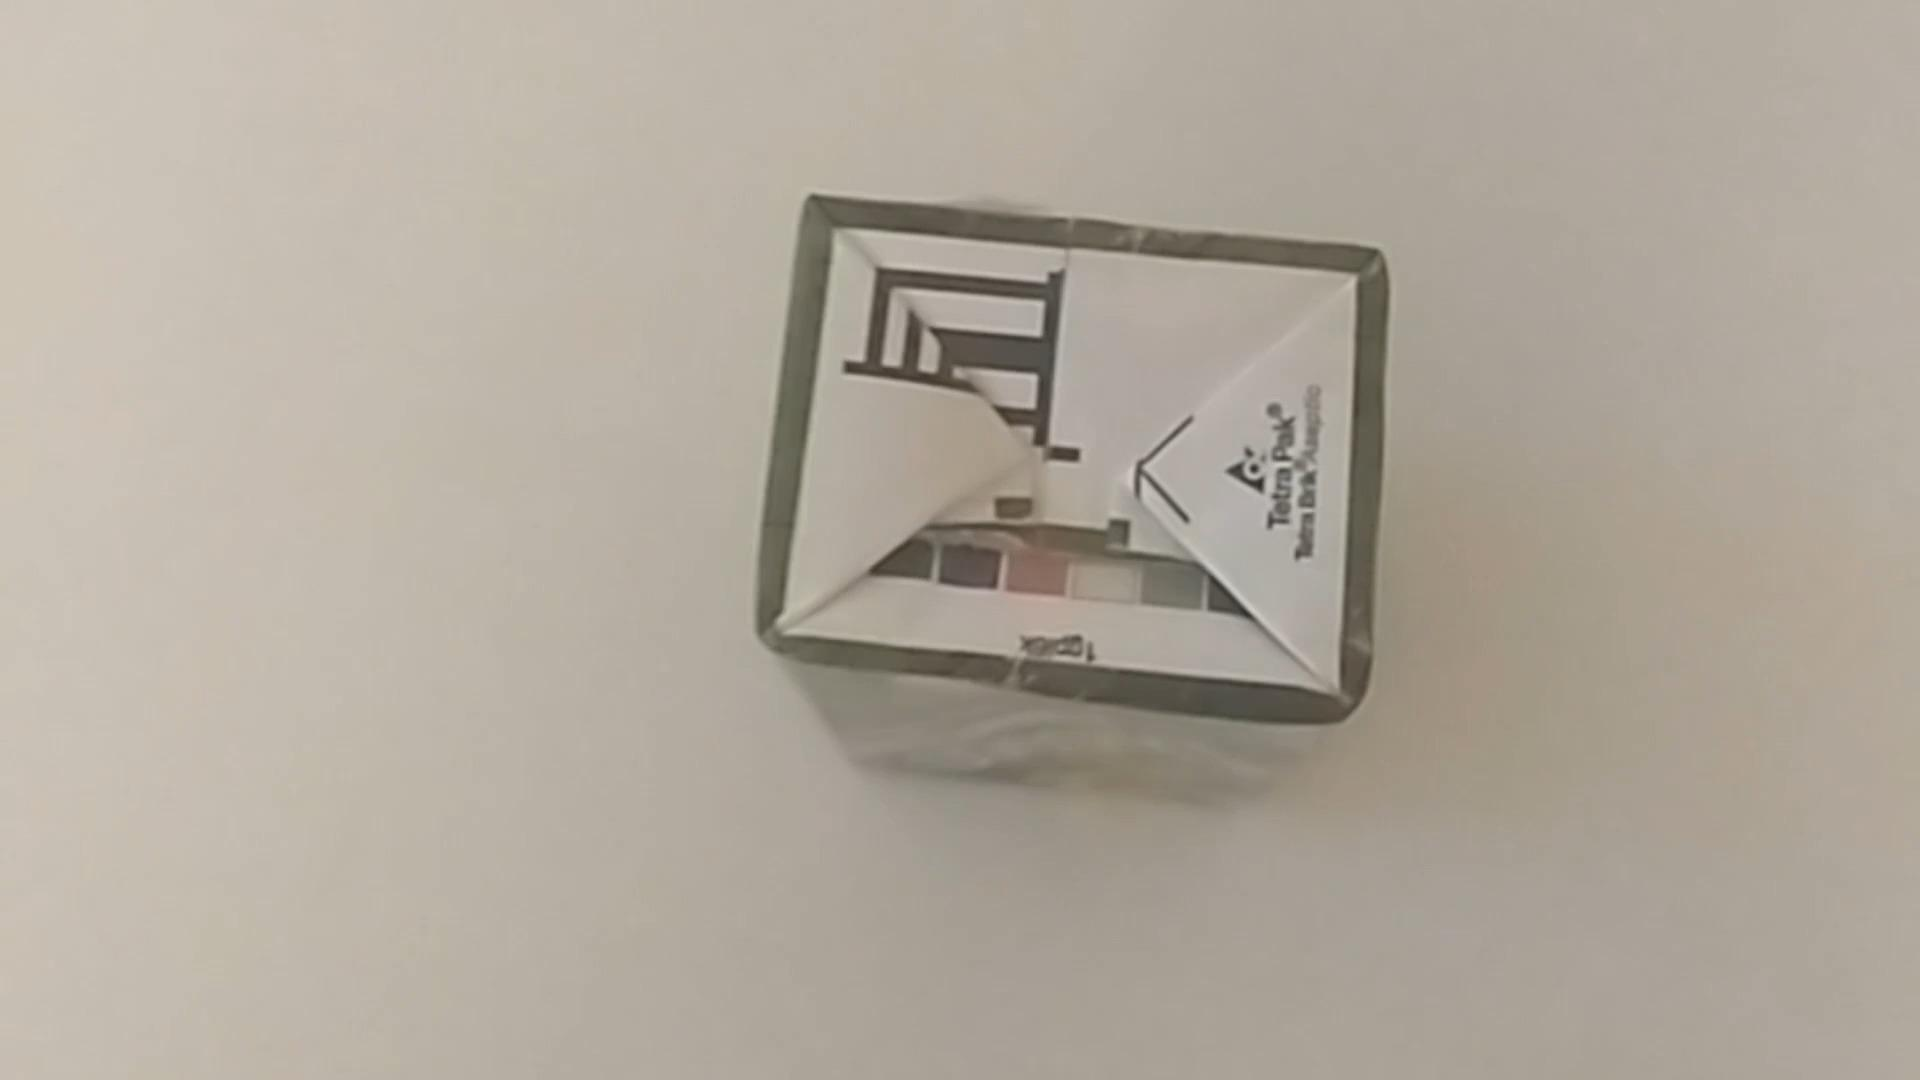coco: (735, 182, 1440, 818)
